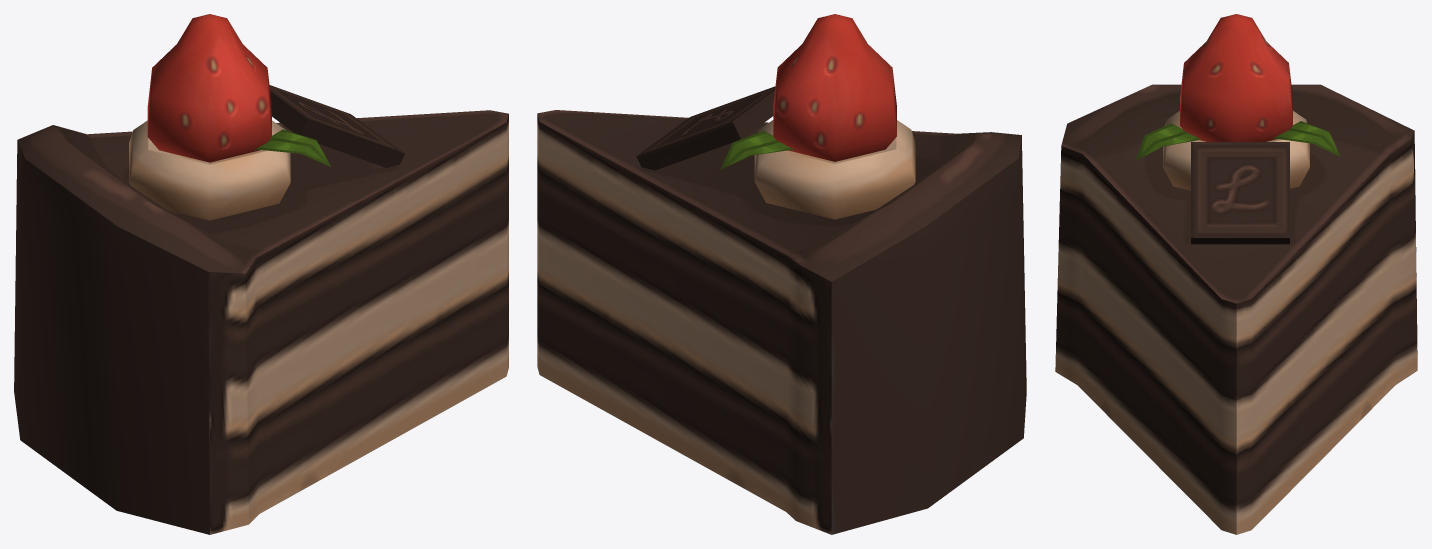
Rendered from chocolate cake.FBX.
3 renders of one model, left to right at view 1: azimuth 30°, elevation 25°; view 2: azimuth 150°, elevation 25°; view 3: azimuth 270°, elevation 25°, orthographic. The views are drawn at different scales.
Visible parts, largest first — view 1: chocolate cake; view 2: chocolate cake; view 3: chocolate cake.
Boxes of the visible parts, x1,y1,x2,y2 form: chocolate cake: (14, 14, 508, 534); chocolate cake: (537, 14, 1026, 534); chocolate cake: (1055, 14, 1417, 534).
Size of the model in its own units: 4.6 by 4.25 by 3.6.
